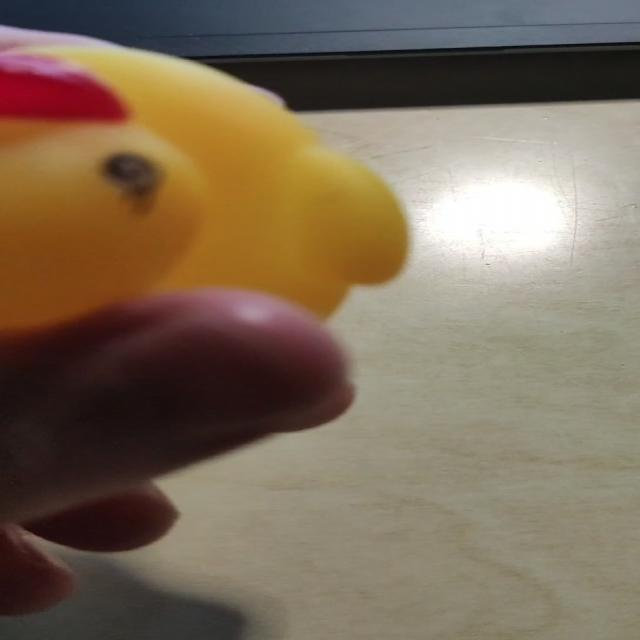rubber-duck: (0, 28, 405, 329)
